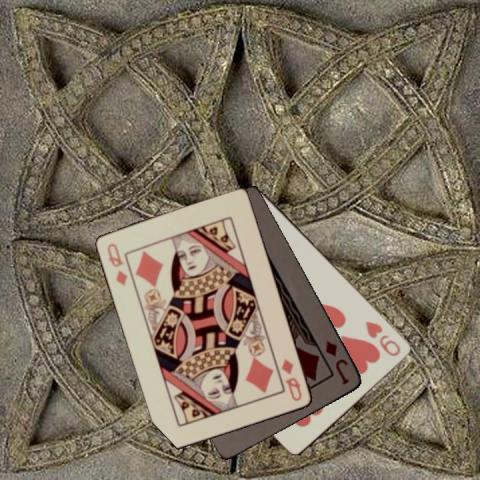9h: (362, 318, 402, 358)
Jd: (322, 338, 351, 387)
Qd: (278, 356, 304, 403), (104, 240, 129, 287)
